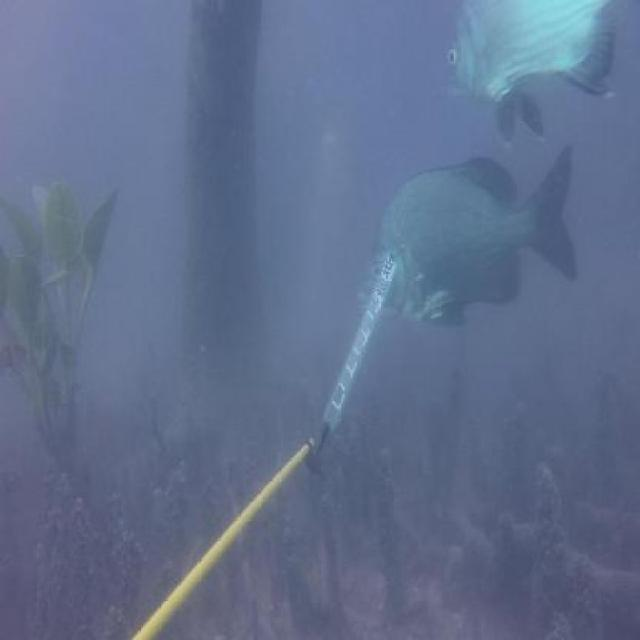acanthopagrus_palmaris: (353, 146, 582, 334), (444, 1, 622, 148)
